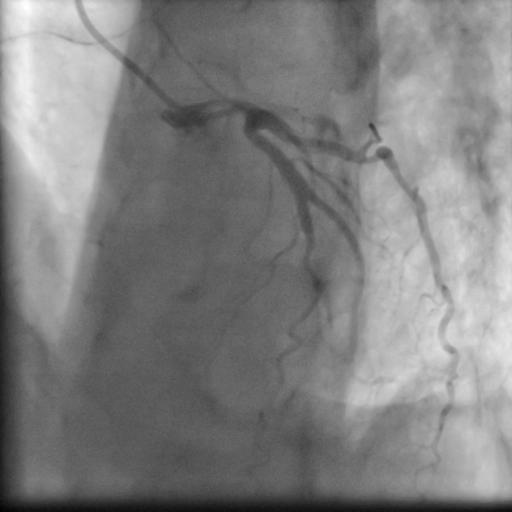Stenosis: (355, 141, 380, 168)
